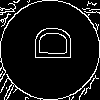D: (25, 25, 72, 62)
